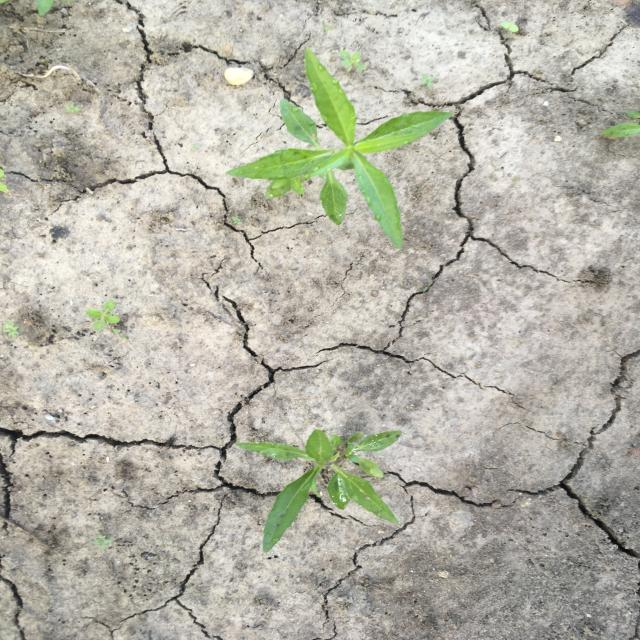Eclipta: (224, 48, 455, 252), (232, 428, 406, 556)
